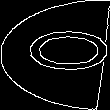O_E: (4, 31, 106, 79)
